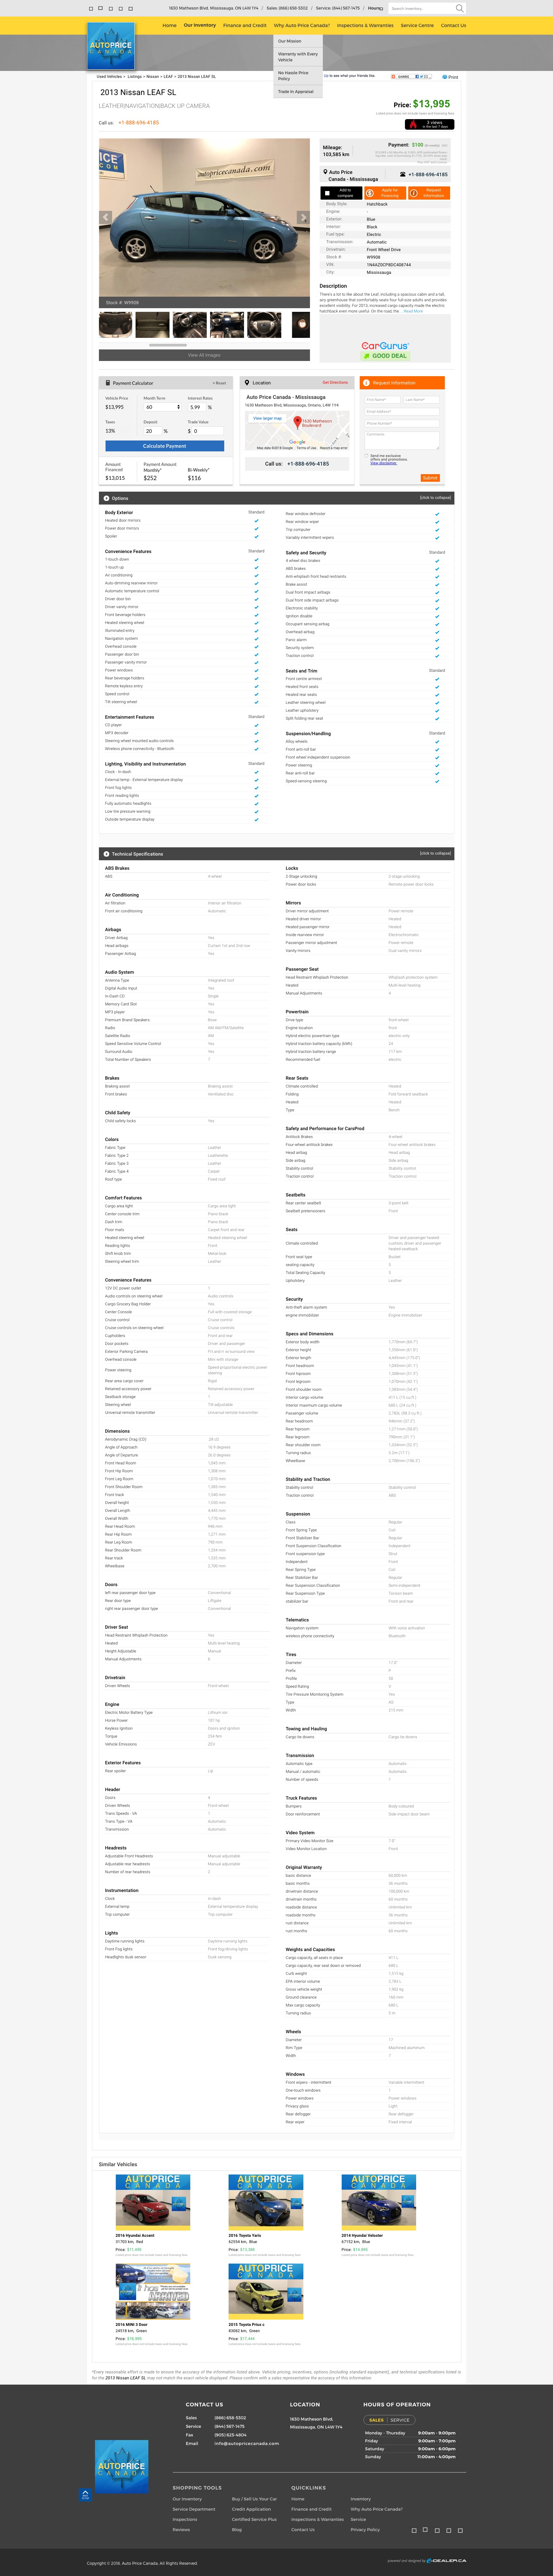car: (297, 210, 310, 225)
